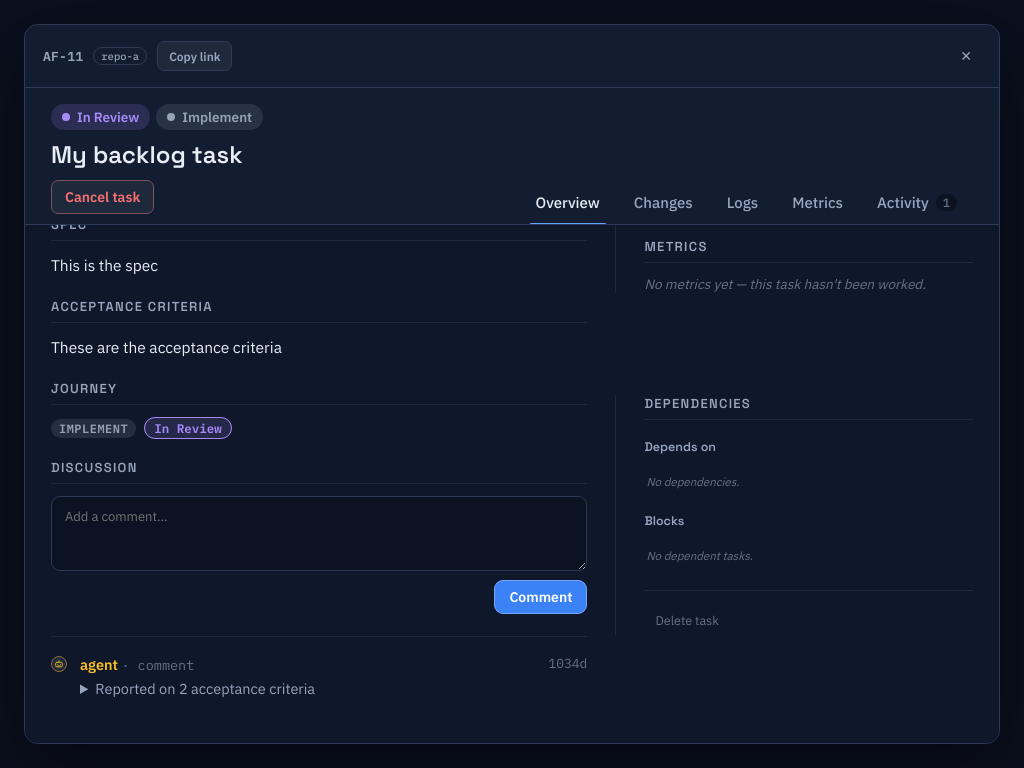
DetailPanel › shows the agent's criterion claims as a summary line, not raw JSON
(page scrolled)
Click the heading "Reported on 2 acceptance criteria" at (205,688), box x1=95 y1=679 x2=315 y2=698
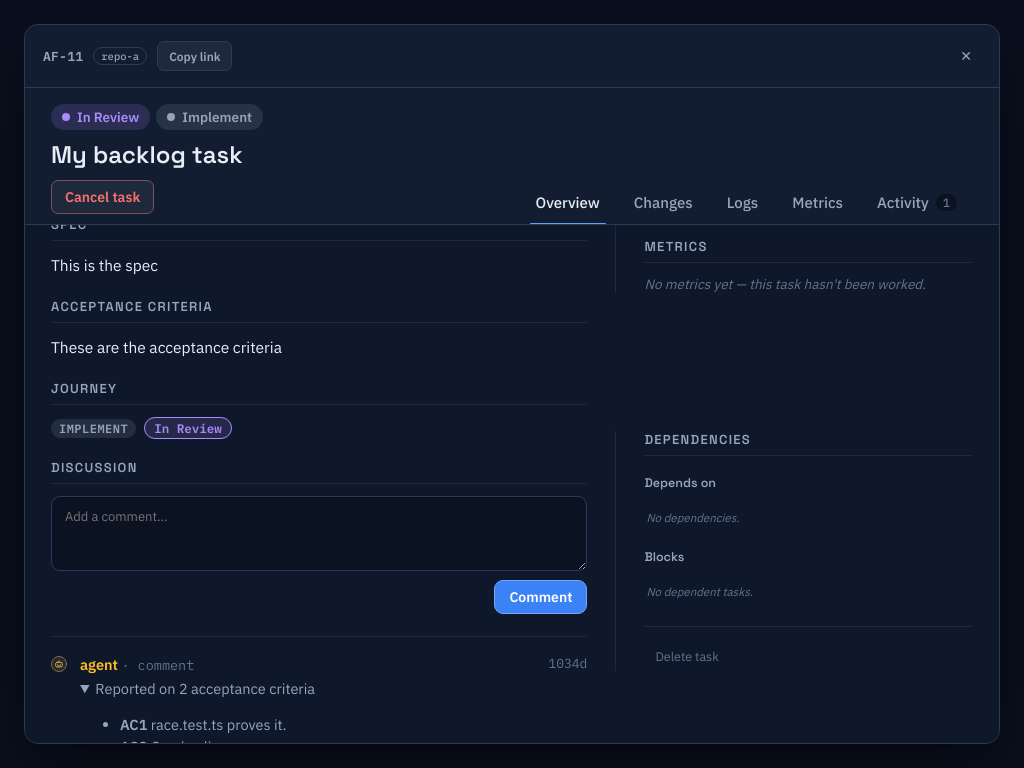
Now the list item "race.test.ts proves it." is shown, box x1=151 y1=715 x2=286 y2=734
